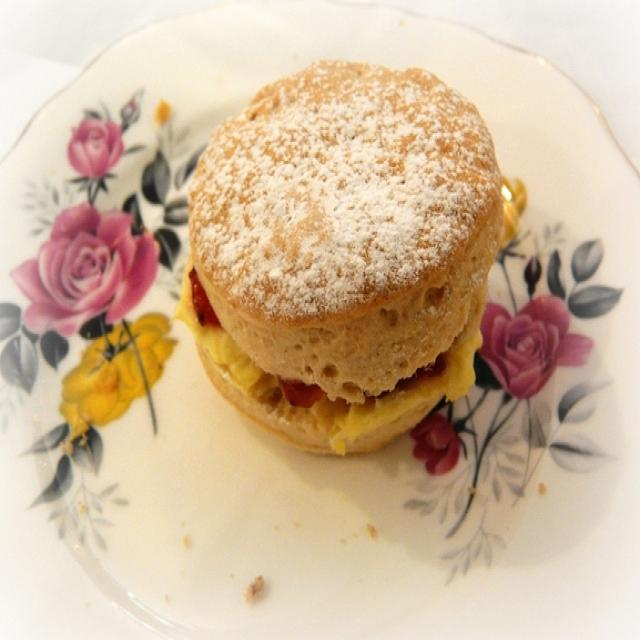面包点心: (166, 54, 522, 484)
